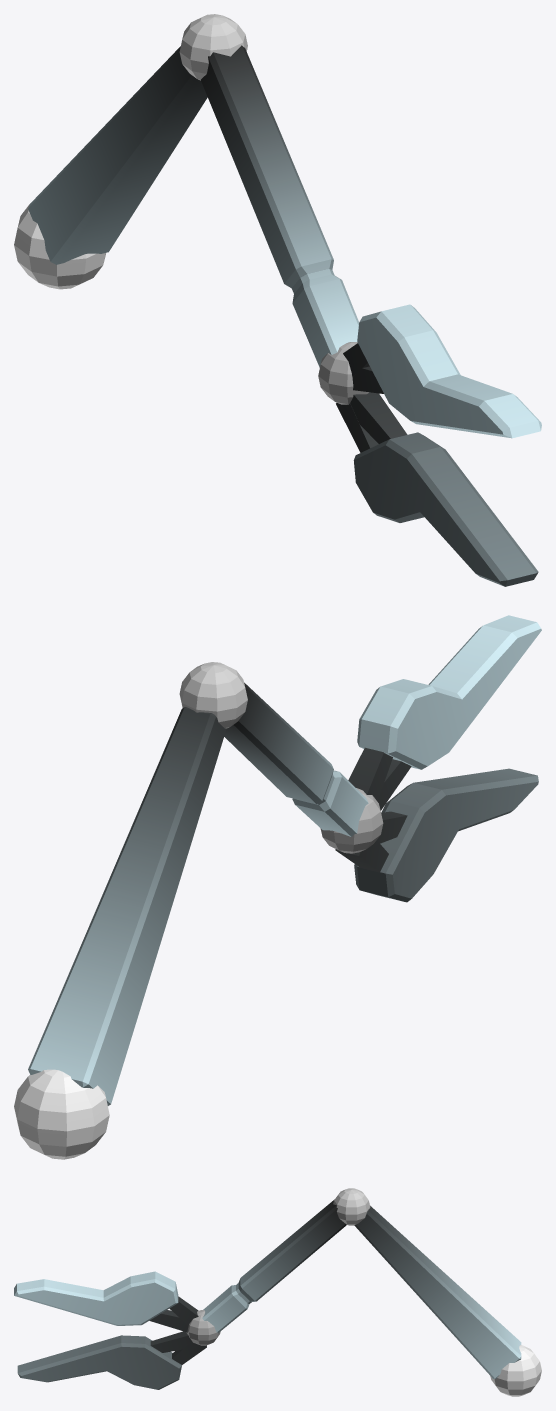
File: LilRobotArm.fbx
3 views of the same model, one above another, from view 1: azimuth 30°, elevation 25°; view 2: azimuth 150°, elevation 25°; view 3: azimuth 270°, elevation 25° (orthographic). The views are drawn at different scales.
Parts seen in each view (by area): view 1: ArmPieces, Pinchers, Joints; view 2: ArmPieces, Pinchers, Joints; view 3: Pinchers, ArmPieces, Joints.
Boxes of the visible parts, x1,y1,x2,y2 form: ArmPieces: (28,45,359,367); Pinchers: (336,304,541,586); Joints: (14,14,369,404); ArmPieces: (28,682,368,1105); Pinchers: (335,615,541,902); Joints: (14,662,383,1159); Pinchers: (14,1271,206,1389); ArmPieces: (202,1199,521,1378); Joints: (186,1188,541,1396).
Bounding box in the file's own units: 40.74 × 183 × 428.
